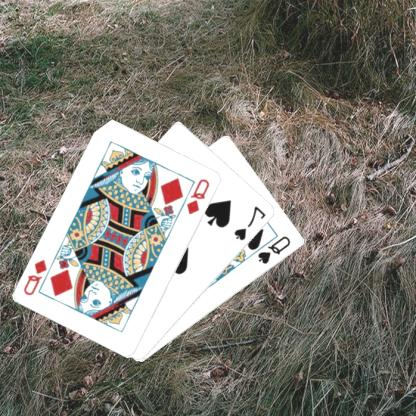7S: (233, 203, 269, 242)
QD: (22, 256, 50, 297), (186, 176, 213, 216)
QS: (257, 233, 294, 266)
